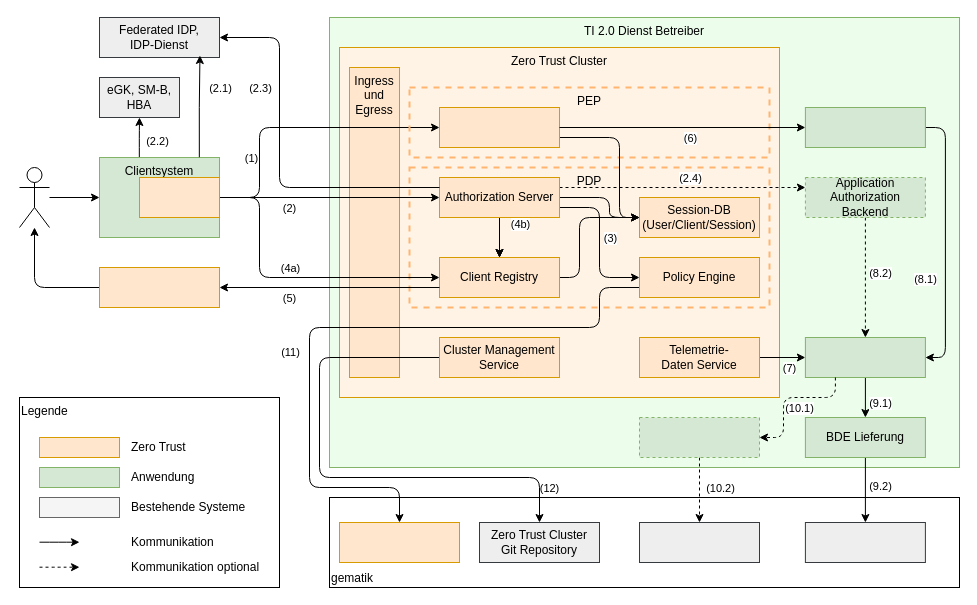
The diagram is 977 pixels wide and 605 high, and some of its shapes have lost their labels. Each missing label, with the centre of its shape:
"BDE" belongs at pixel 864 542.
"E-Mail Confirmation-Code/Link" belongs at pixel 159 287.
"http Proxy" belongs at pixel 499 127.
"Monitoring" belongs at pixel 864 357.
"Nutzer" belongs at pixel 34 197.
"PIP und PAP Service" belongs at pixel 399 542.
"Resource Server (Application Backend)" belongs at pixel 864 127.
"SIEM" belongs at pixel 699 437.
"TI SIEM" belongs at pixel 699 542.
"Trust Client" belongs at pixel 179 197.
